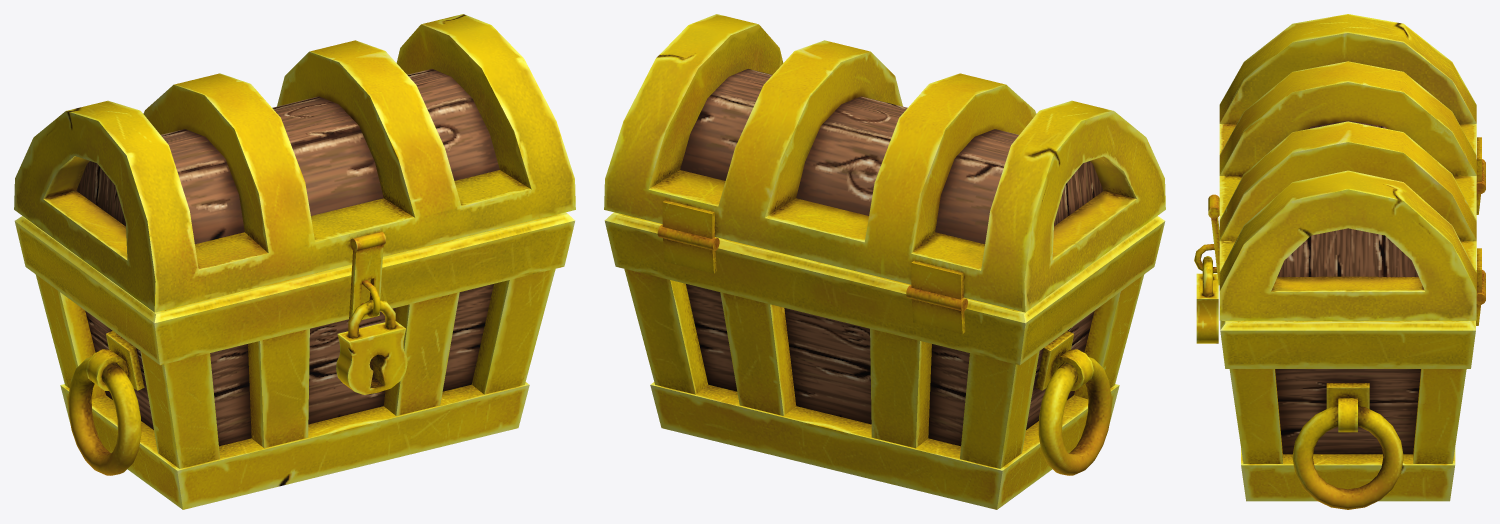
File: Treasure.fbx
3 renders of one model, left to right at view 1: azimuth 30°, elevation 25°; view 2: azimuth 150°, elevation 25°; view 3: azimuth 270°, elevation 25°, orthographic. The views are drawn at different scales.
Visible parts, largest first — view 1: Lid, Chest, Plane.007, Lock, Plane.006, Plane.004; view 2: Lid, Chest, Plane.007, Circle.003, Cube.007, Plane.006; view 3: Lid, Chest, Plane.005, Lock, Plane.006, Circle.003, Cube.007, Plane.004.
Boxes of the visible parts, x1,y1,x2,y2 form: Lid: (14, 14, 575, 312); Chest: (14, 212, 575, 509); Plane.007: (68, 357, 141, 475); Lock: (336, 300, 407, 394); Plane.006: (86, 330, 144, 390); Plane.004: (349, 244, 383, 319); Lid: (604, 14, 1165, 312); Chest: (604, 212, 1165, 509); Plane.007: (1038, 357, 1111, 475); Circle.003: (657, 224, 967, 334); Cube.007: (662, 200, 963, 299); Plane.006: (1035, 330, 1093, 390); Lid: (1219, 14, 1476, 321); Chest: (1220, 320, 1475, 501); Plane.005: (1292, 406, 1403, 509); Lock: (1196, 256, 1218, 343); Plane.006: (1326, 383, 1369, 432); Circle.003: (1476, 159, 1485, 325); Cube.007: (1477, 137, 1481, 293); Plane.004: (1211, 217, 1219, 285).
Size of the model in its own units: 445 by 358 by 292.
